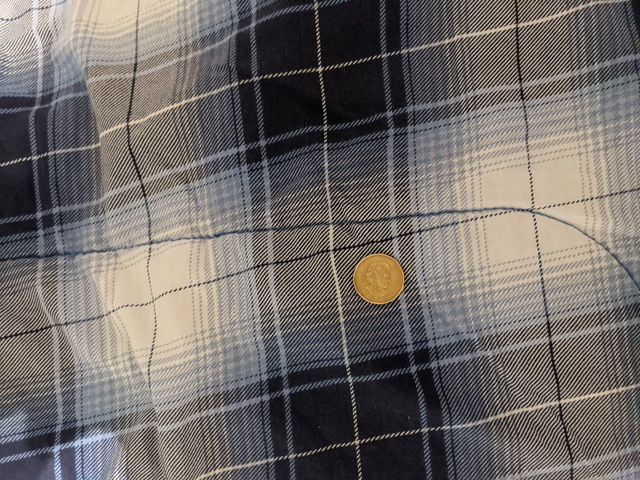loonie: (346, 243, 415, 305)
